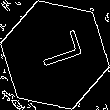L_W: (27, 32, 83, 78)
